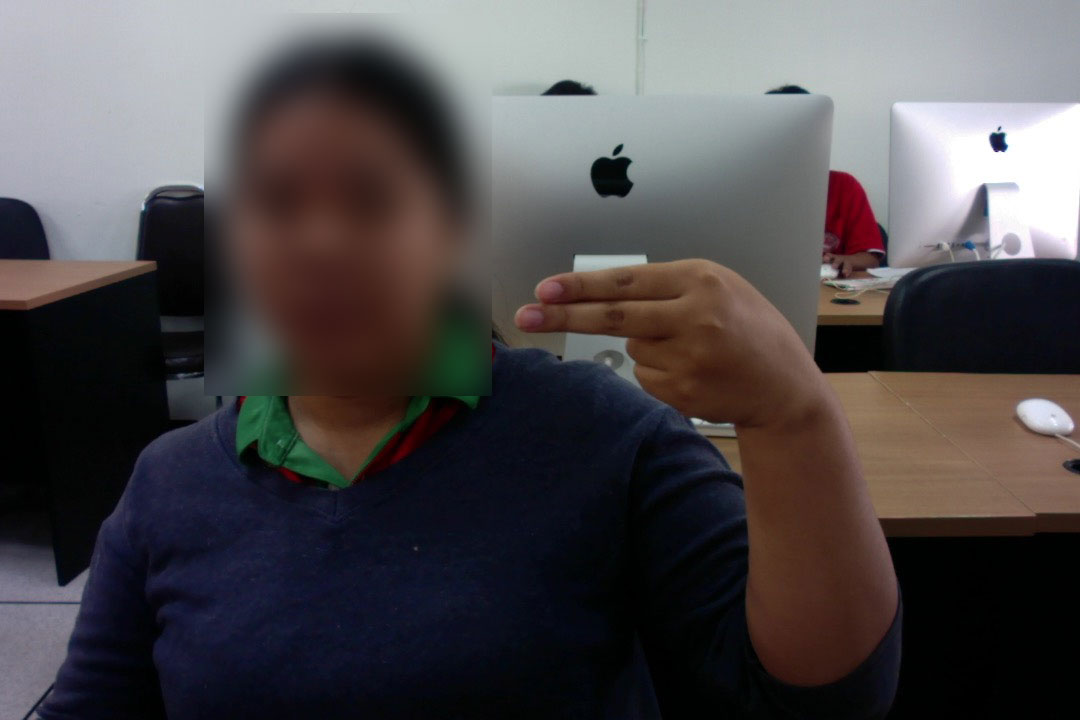hor: (500, 251, 837, 426)
